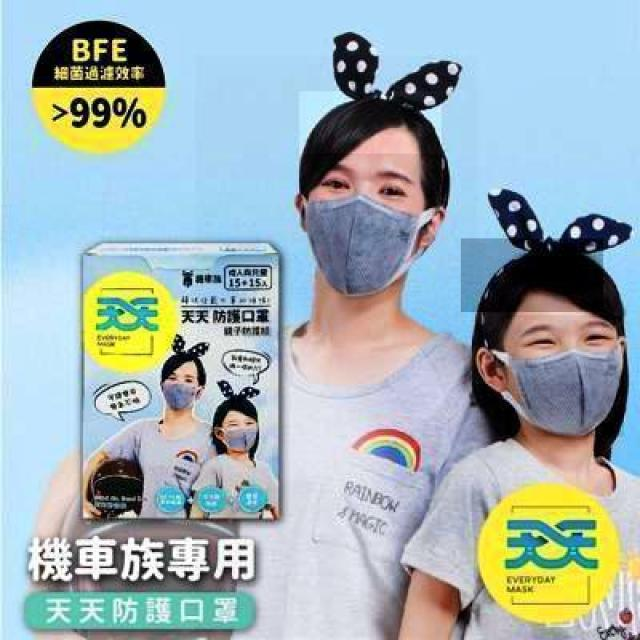face_mask: (302, 158, 426, 296), (506, 315, 624, 437)
head_nohelmet: (461, 238, 603, 312), (299, 91, 443, 155)
person: (195, 56, 480, 638), (445, 231, 638, 638)
